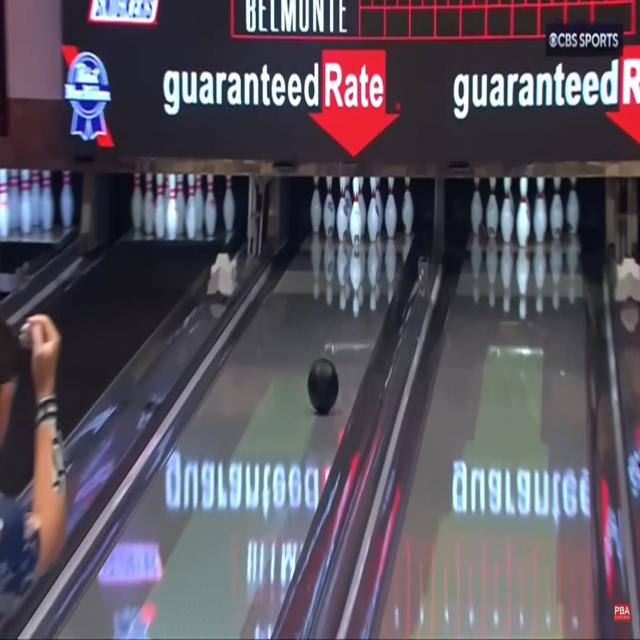alley: (61, 242, 408, 638)
balls: (307, 357, 339, 415)
bottle: (300, 168, 416, 247)
